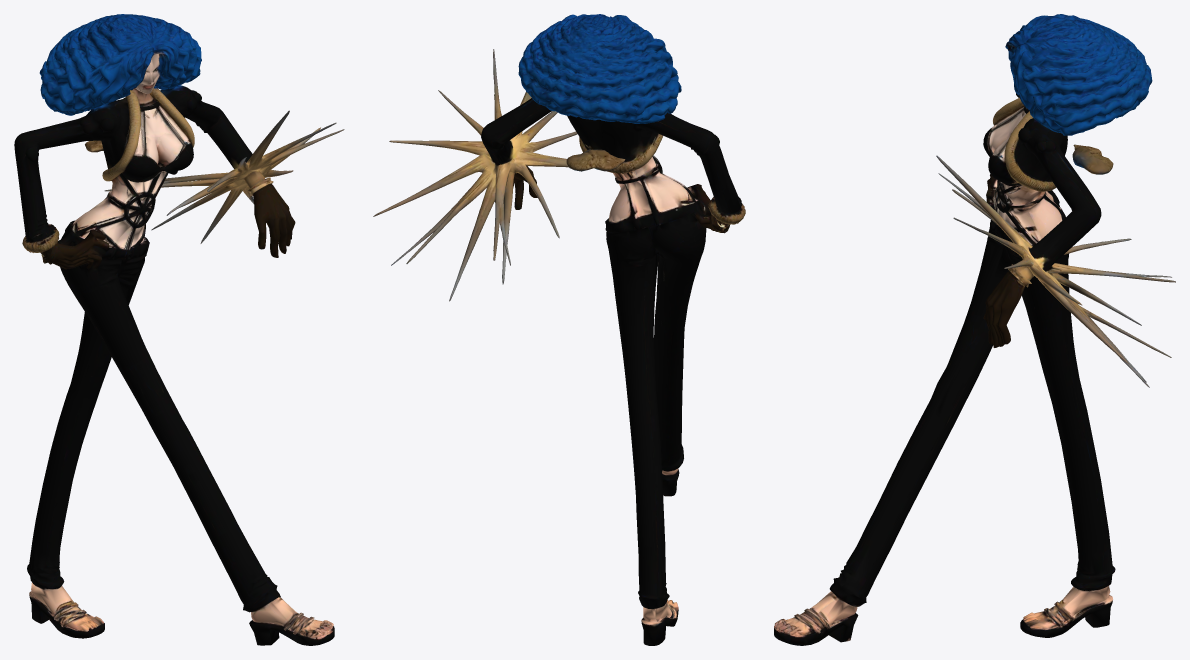
Rendered from doublefinger.glb.
3 views of the same model, side by side, from view 1: azimuth 30°, elevation 25°; view 2: azimuth 150°, elevation 25°; view 3: azimuth 270°, elevation 25° (orthographic). The views are drawn at different scales.
Parts seen in each view (by area): view 1: node_0; view 2: node_0; view 3: node_0.
Boxes of the visible parts, x1,y1,x2,y2 form: node_0: (14,14,344,645); node_0: (373,14,745,645); node_0: (774,14,1175,645).
Bounding box in the file's own units: 0.6058 × 1.05 × 0.605.
Materials: 1 (1 with a texture image).
